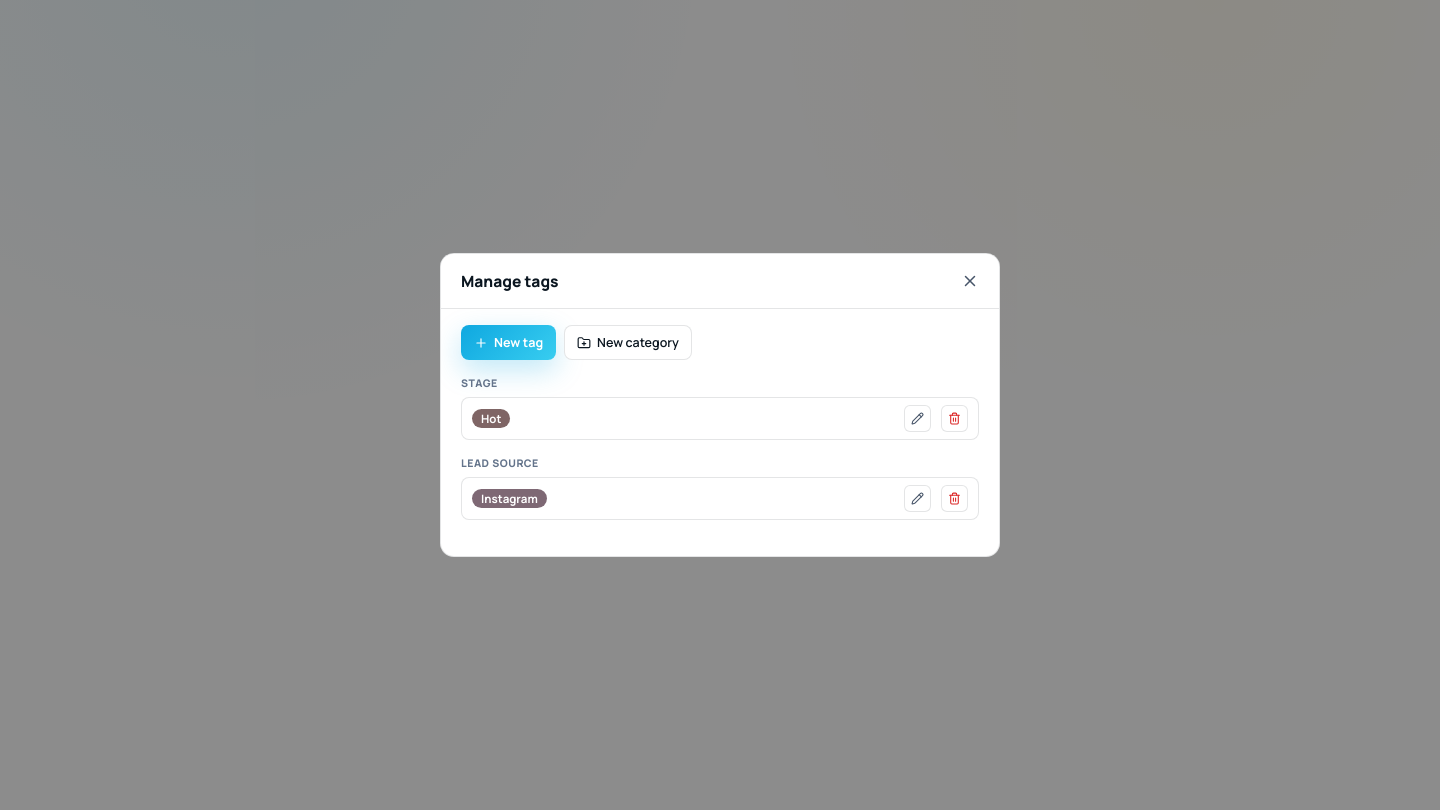
Test: ManageTagsModal › refuses to create a tag with no category
Step 1. Click the button "New tag" → coordinates (509, 342), box [461,325,556,360]
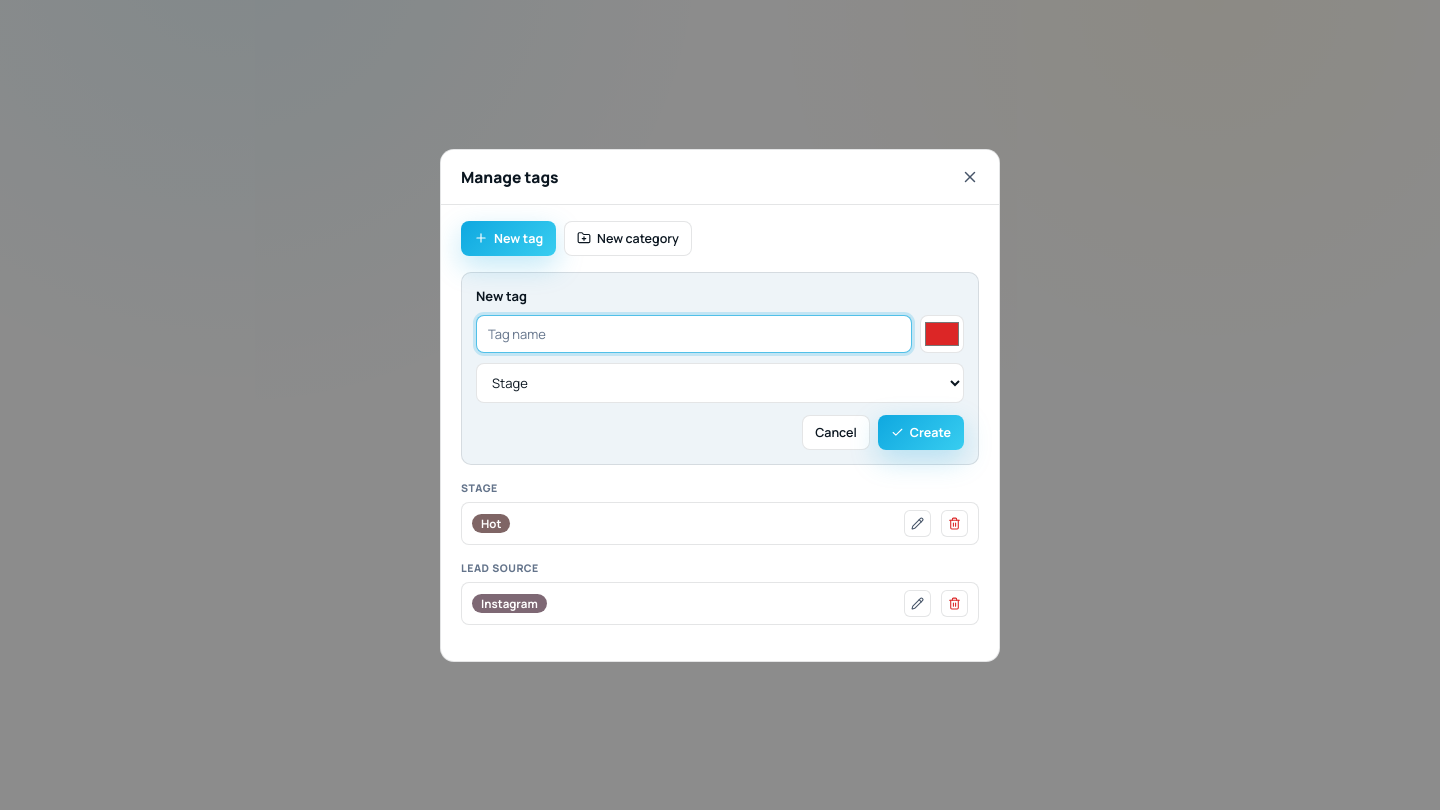
Step 2. Type "Orphan" into the field with placeholder "Tag name" → coordinates (694, 334), box [476,314,912,352]
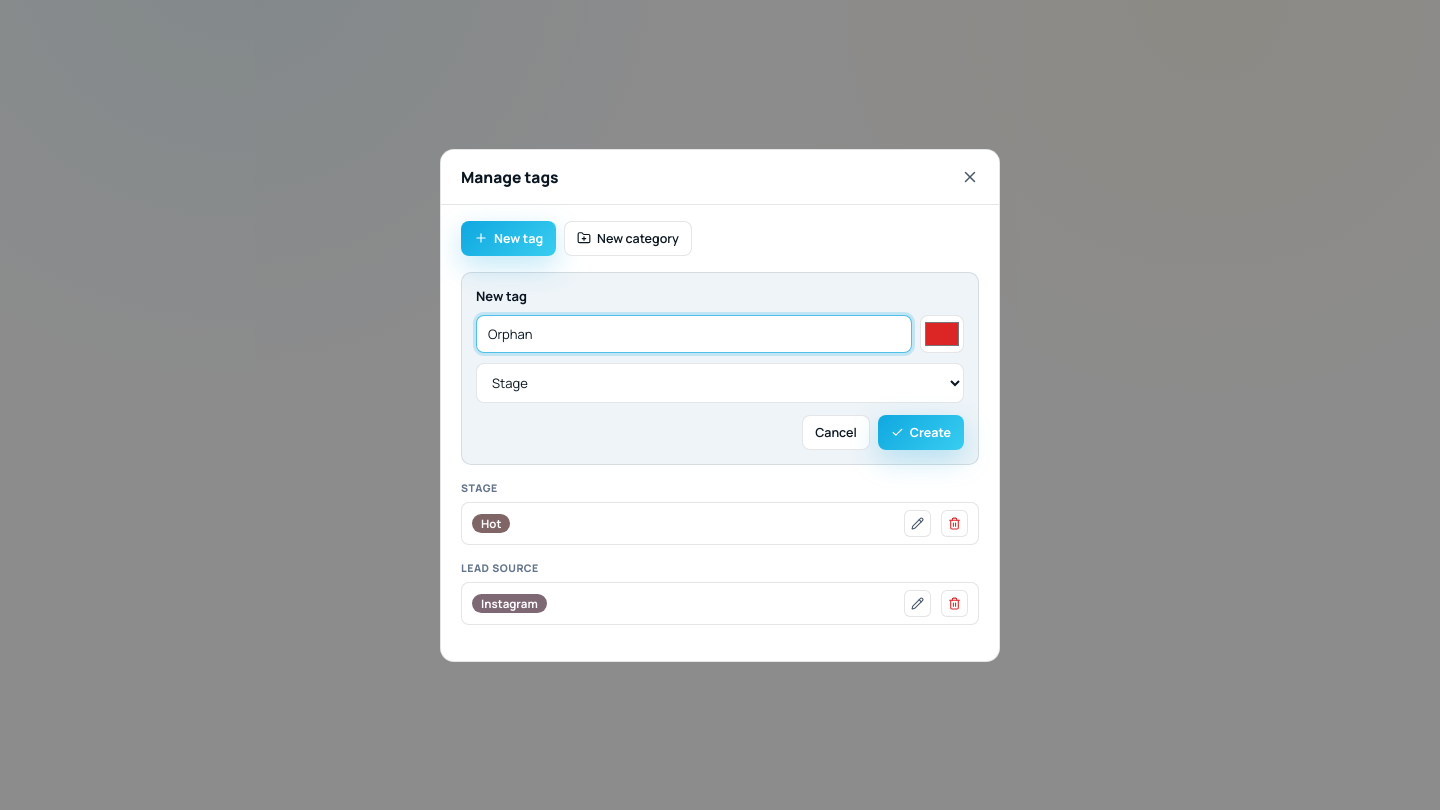
Step 3. Select "— Pick a category —" in the dropdown named "Category" → coordinates (720, 382), box [476,362,964,402]
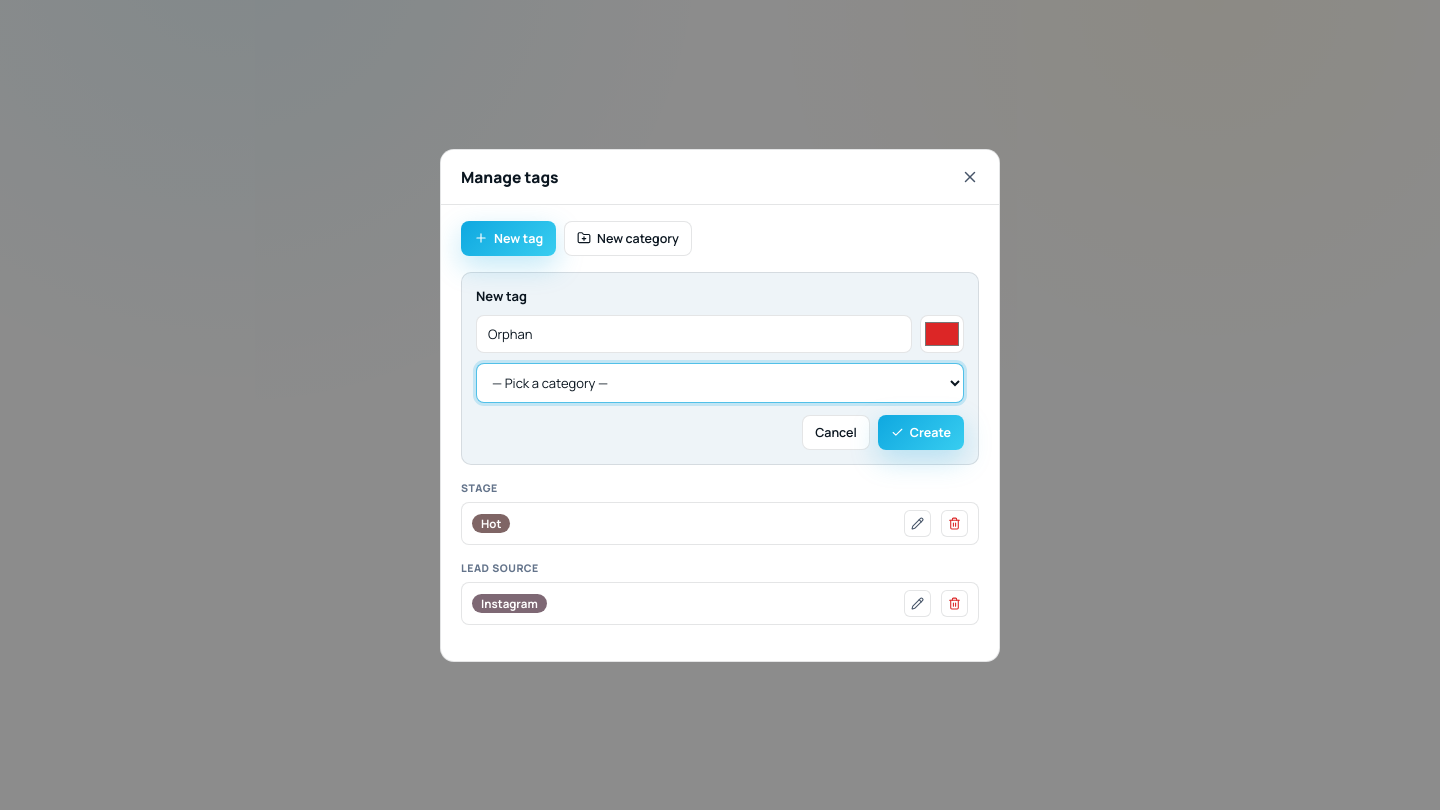
Step 4. Click the button "Create" → coordinates (921, 432), box [878,414,964,450]
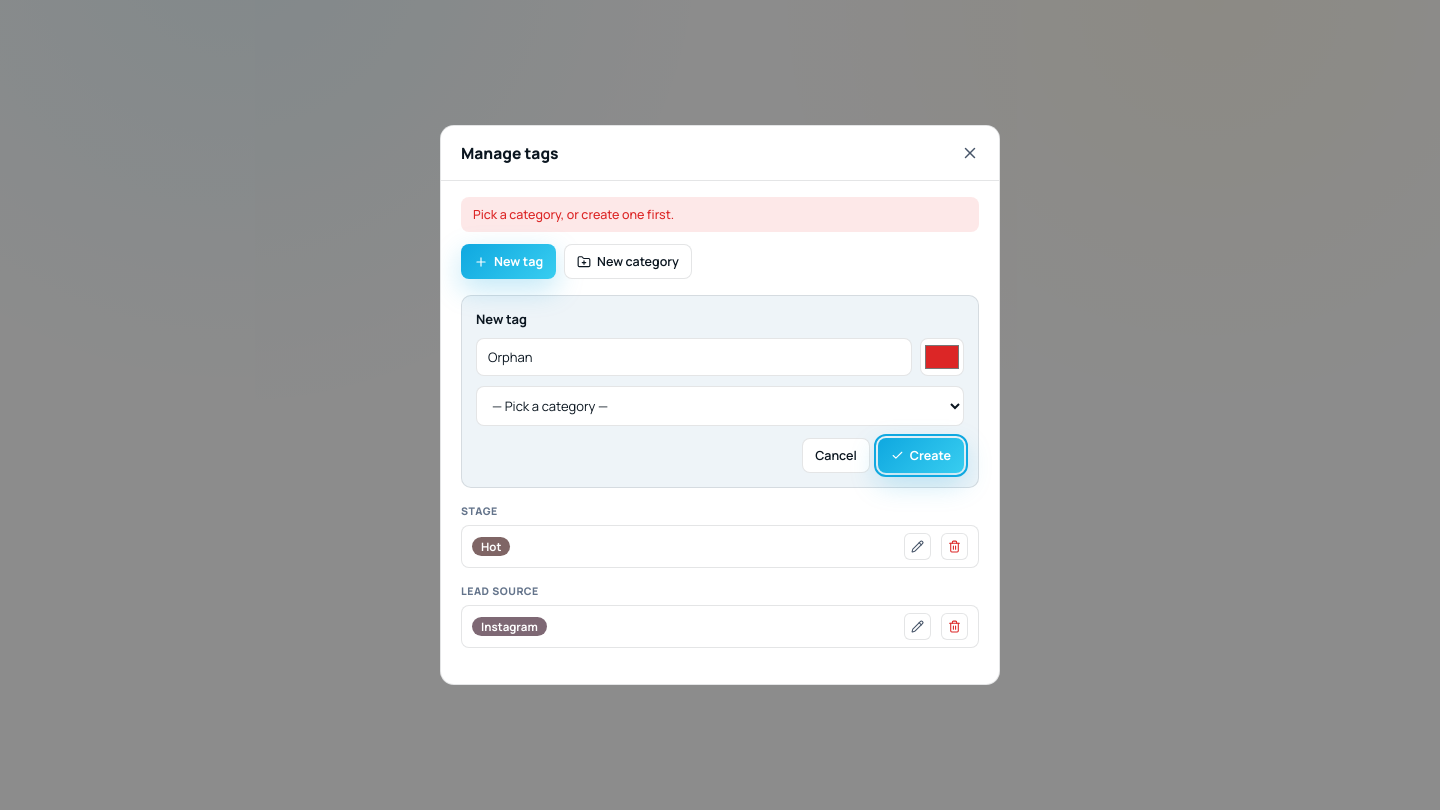
Expected: the message shows "category", [473,206,674,223]
